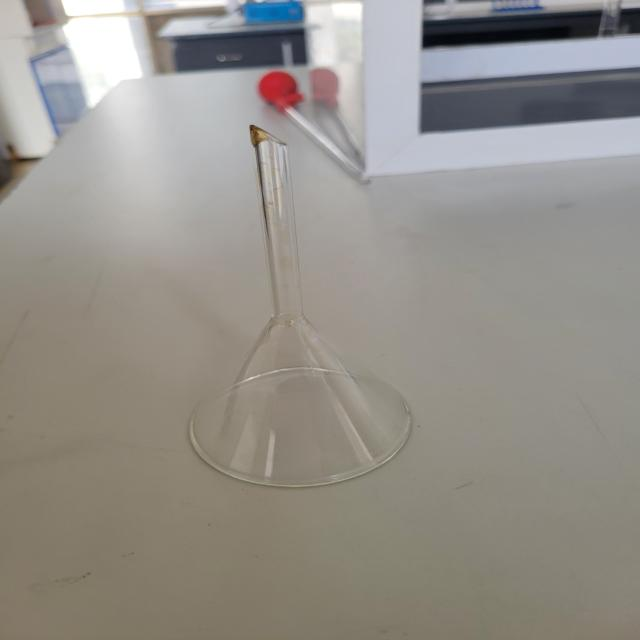Funnel: (123, 102, 440, 512)
